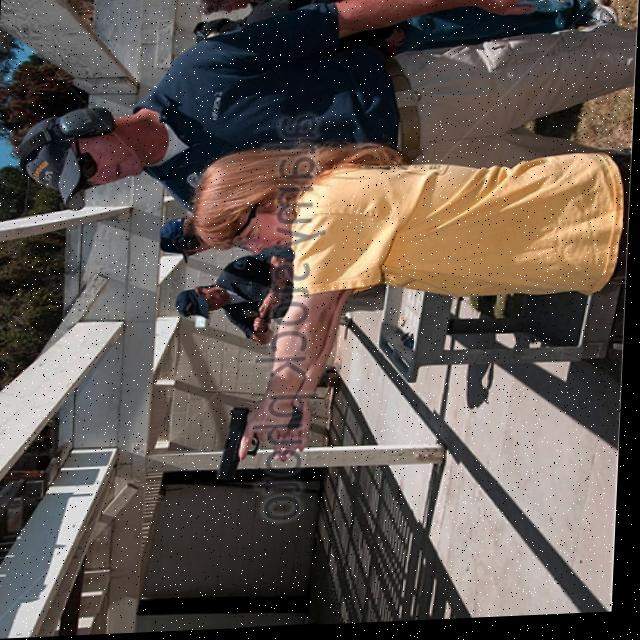pistol: (221, 410, 260, 485)
